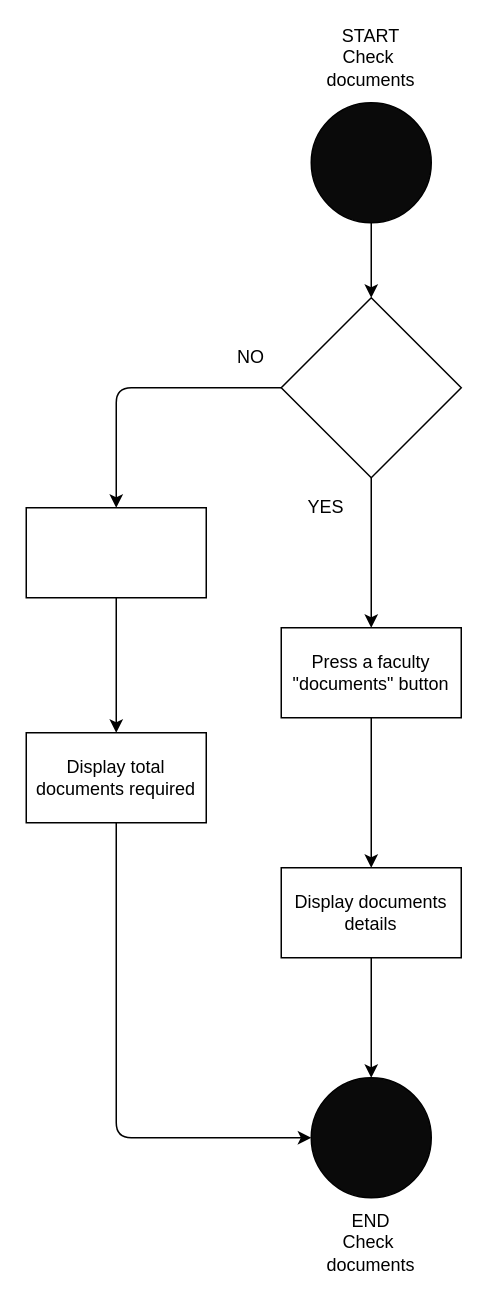
This 488x1301 diagram has some shape labels left out. Each missing label, with the box of its shape:
Press "documents" button: (25, 506, 206, 598)
Select available faculty admissions: (280, 296, 461, 478)
